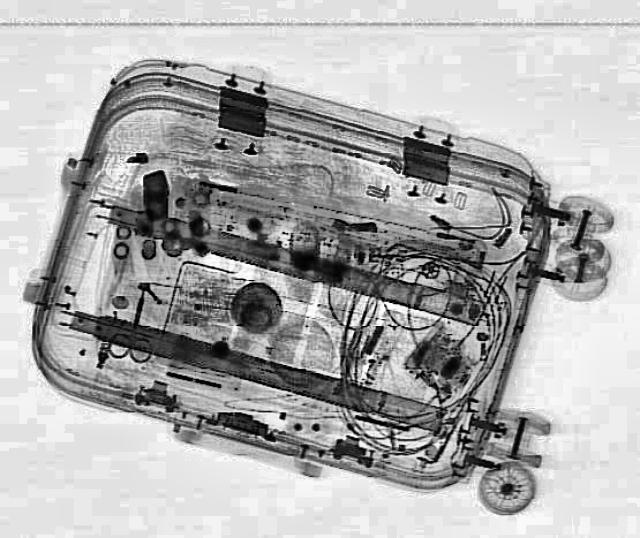Scissors: (107, 284, 167, 364)
